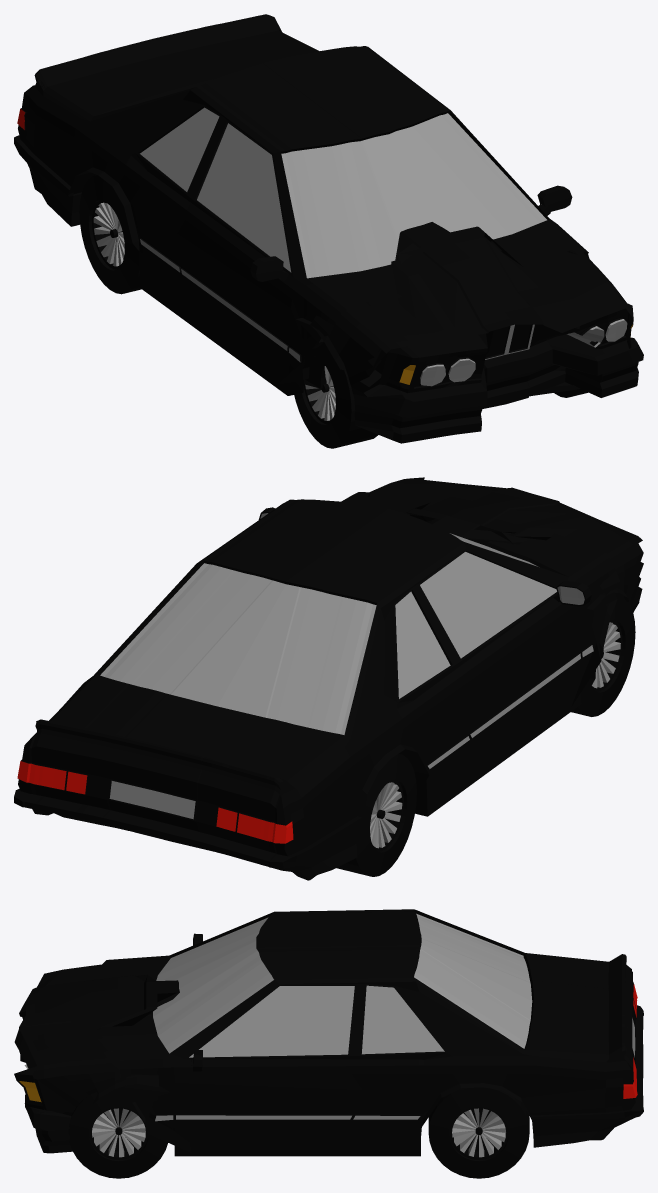
File: bawara_destro.fbx
The picture shows the model from 3 angles, top to bottom: view 1: azimuth 30°, elevation 25°; view 2: azimuth 150°, elevation 25°; view 3: azimuth 270°, elevation 25°; orthographic projection. The views are drawn at different scales.
Parts seen in each view (by area): view 1: Plane, Plane.004, Plane.003; view 2: Plane, Plane.004, Plane.003; view 3: Plane, Plane.002, Plane.001.
Part boxes in pixels (box(x1,y1,x2,y2)): Plane: box(14, 14, 643, 443); Plane.004: box(79, 175, 141, 294); Plane.003: box(294, 342, 378, 448); Plane: box(14, 477, 643, 880); Plane.004: box(336, 754, 416, 876); Plane.003: box(571, 593, 635, 716); Plane: box(14, 909, 643, 1156); Plane.002: box(428, 1087, 529, 1178); Plane.001: box(68, 1087, 167, 1178).
Bounding box in the file's own units: 138 × 93.29 × 287.
